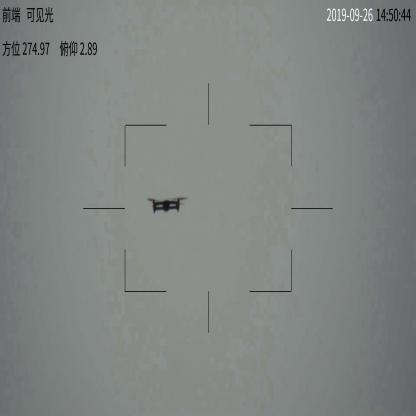uav: (145, 196, 186, 216)
